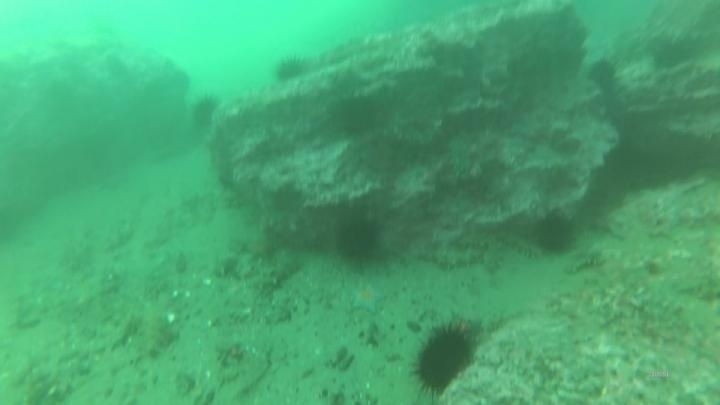echinus: (409, 320, 479, 397), (333, 213, 384, 264), (330, 93, 383, 139), (531, 209, 578, 257), (649, 37, 694, 73), (271, 53, 310, 86), (189, 94, 221, 132), (586, 57, 620, 92)
holothurian: (214, 247, 303, 290), (418, 239, 491, 272), (489, 231, 549, 261)
starfish: (440, 310, 486, 343), (240, 229, 282, 265), (347, 281, 388, 315)
